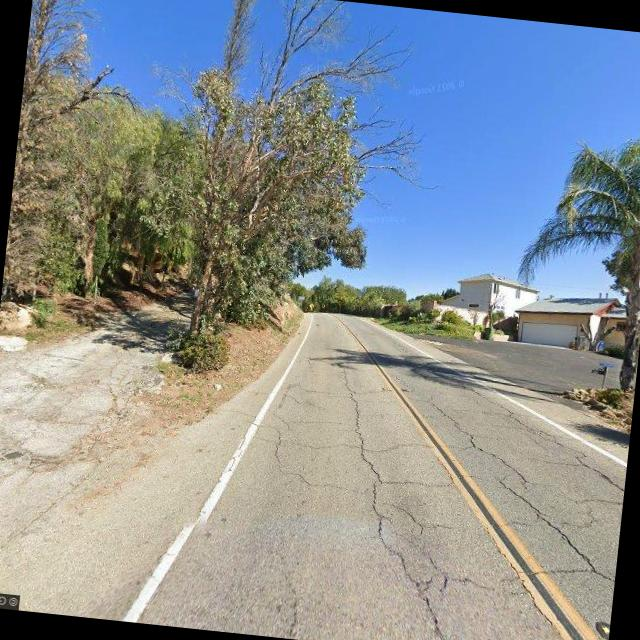crack: (228, 348, 635, 640)
